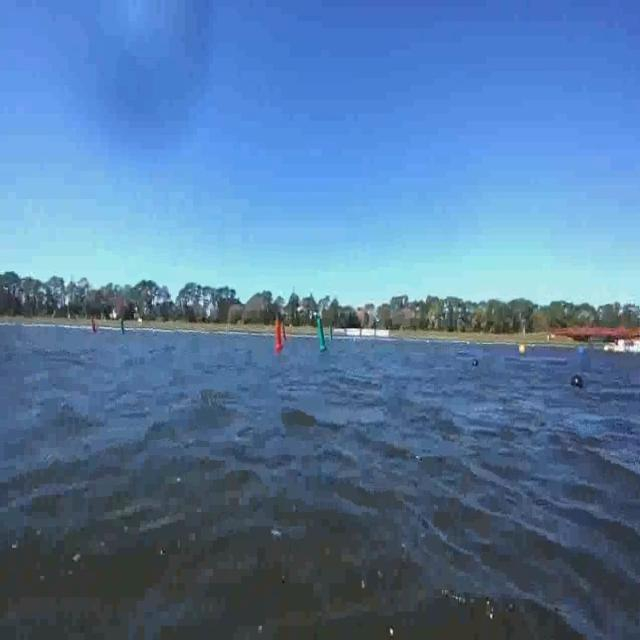black-buoy: (570, 373, 583, 391), (473, 358, 481, 368)
blue-buoy: (578, 345, 586, 359)
green-column-buoy: (316, 318, 328, 354), (119, 317, 126, 335), (328, 324, 334, 340)
red-column-buoy: (276, 322, 284, 352), (91, 313, 100, 335)
yellow-buoy: (519, 343, 527, 357)
